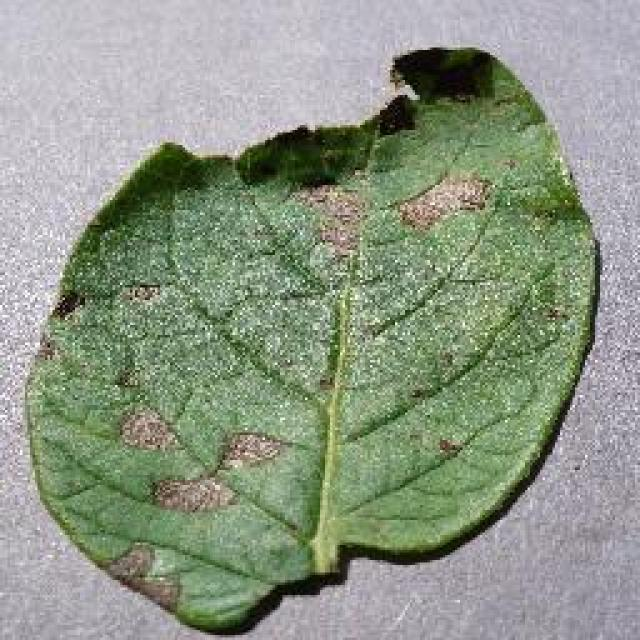Potato: (22, 43, 600, 635)
